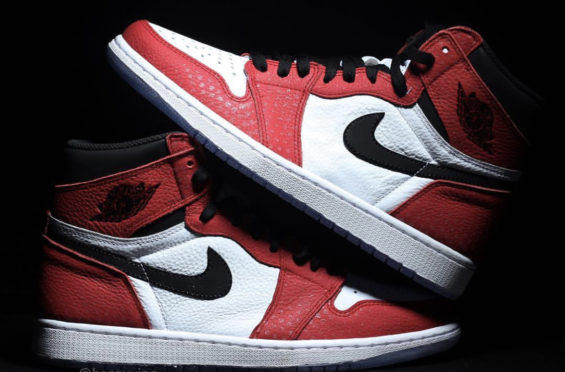Air Jordan 1 Spiderman: (107, 1, 527, 307), (28, 129, 494, 368)
